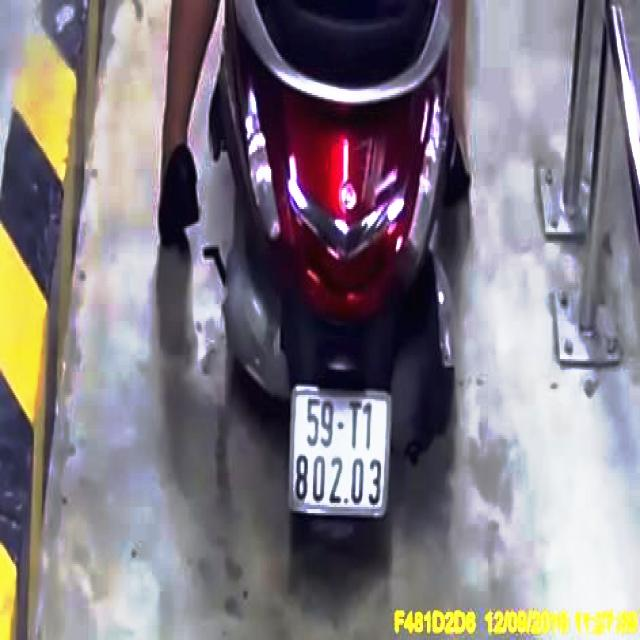license_plate: (291, 389, 388, 516)
